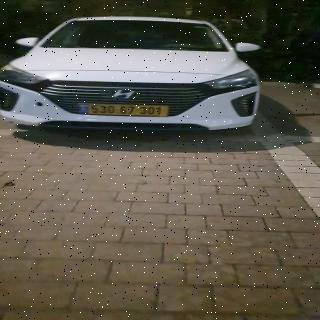LicensePlate: (89, 104, 168, 117)
